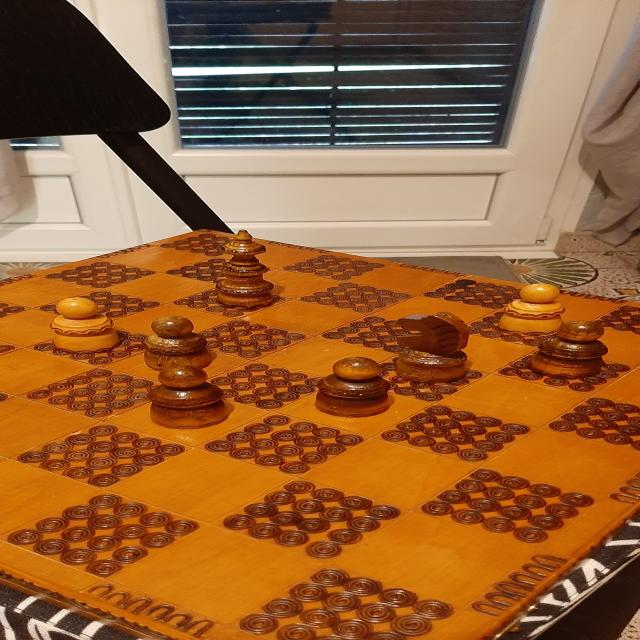black-king: (215, 230, 275, 310)
black-knight: (394, 311, 469, 384)
black-pawn: (148, 364, 229, 430), (528, 320, 608, 380), (314, 357, 391, 418), (141, 316, 212, 372)
white-pawn: (49, 297, 120, 354), (497, 284, 567, 336)
